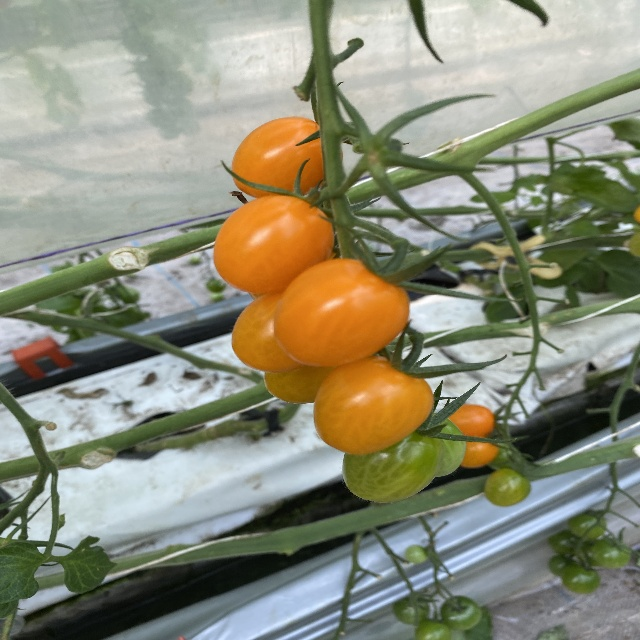l_green: (343, 427, 446, 503), (417, 413, 466, 477)
l_half_ripened: (272, 258, 410, 367), (212, 193, 336, 295), (312, 356, 435, 456), (231, 116, 324, 196), (231, 291, 305, 373), (263, 366, 336, 405)
